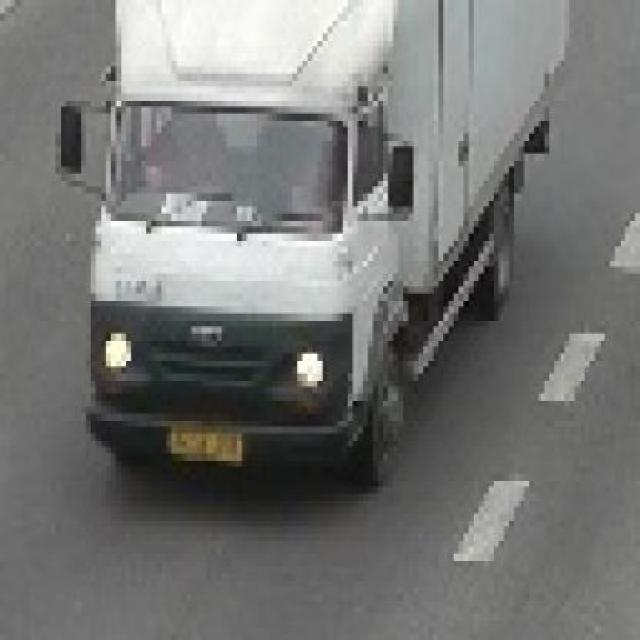truck: (51, 1, 571, 495)
